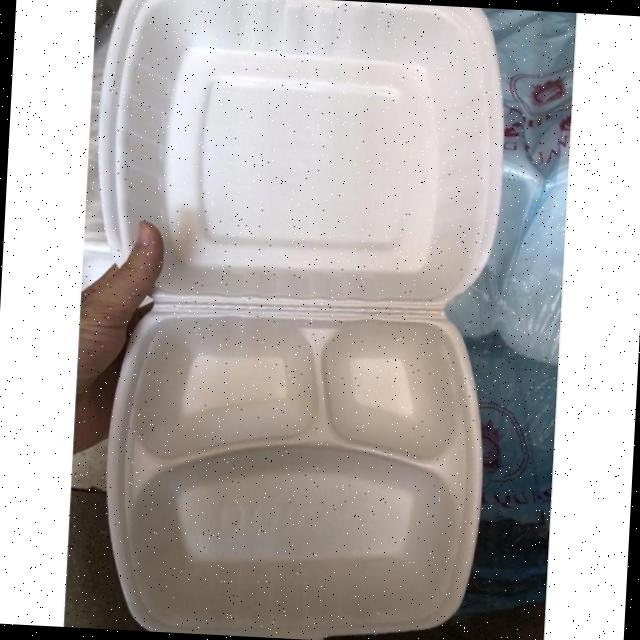styrofoam: (69, 0, 514, 640)
